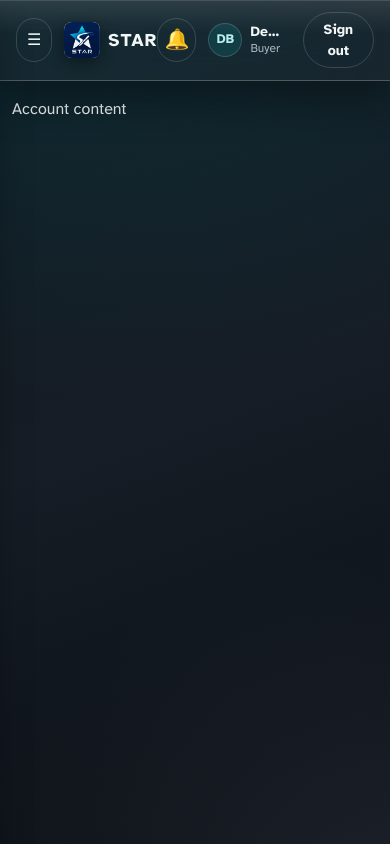
it: AppShell › closes the mobile drawer with the Escape key
This screenshot has width=390, height=844.
Click the button named "Open menu": (34, 40) [16,18,52,62]
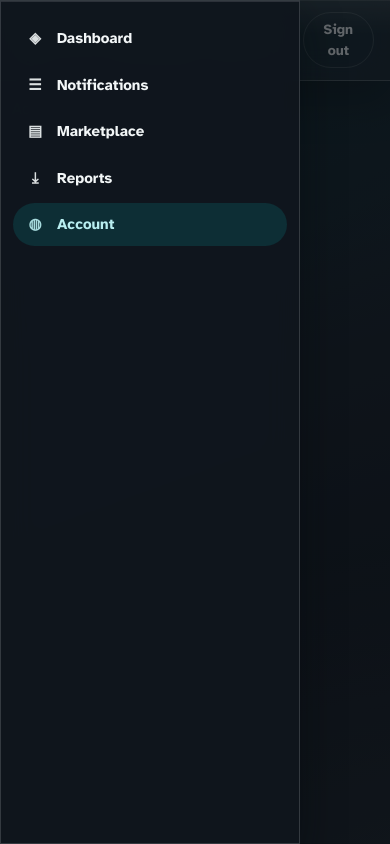
expect the button named "Open menu" is expanded: met, box [16,18,52,62]
Press Escape
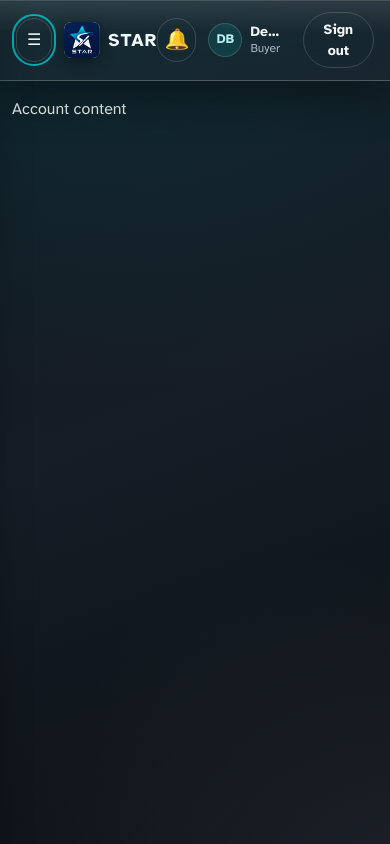
expect the button named "Open menu" is collapsed: met, box [16,18,52,62]
